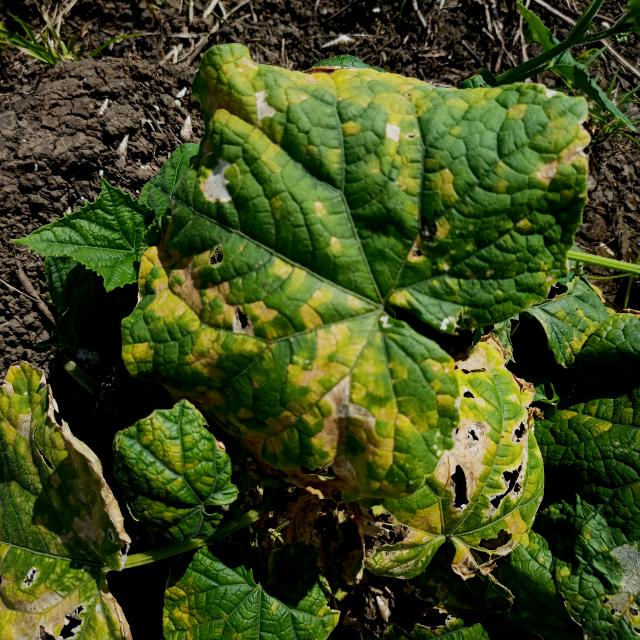disease_cucumber: (156, 58, 578, 564)
